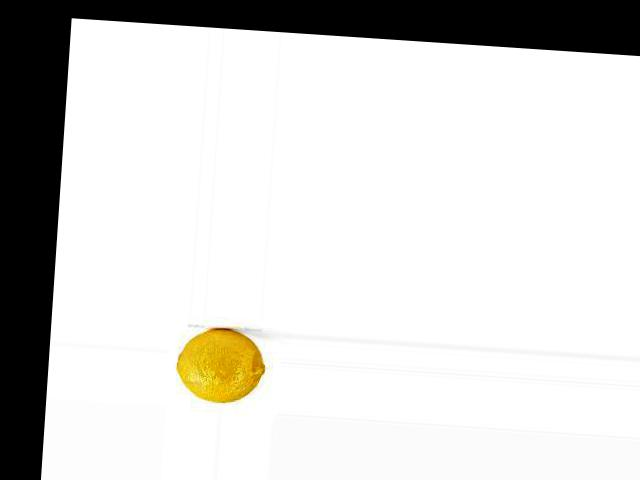lemon: (164, 323, 280, 408)
